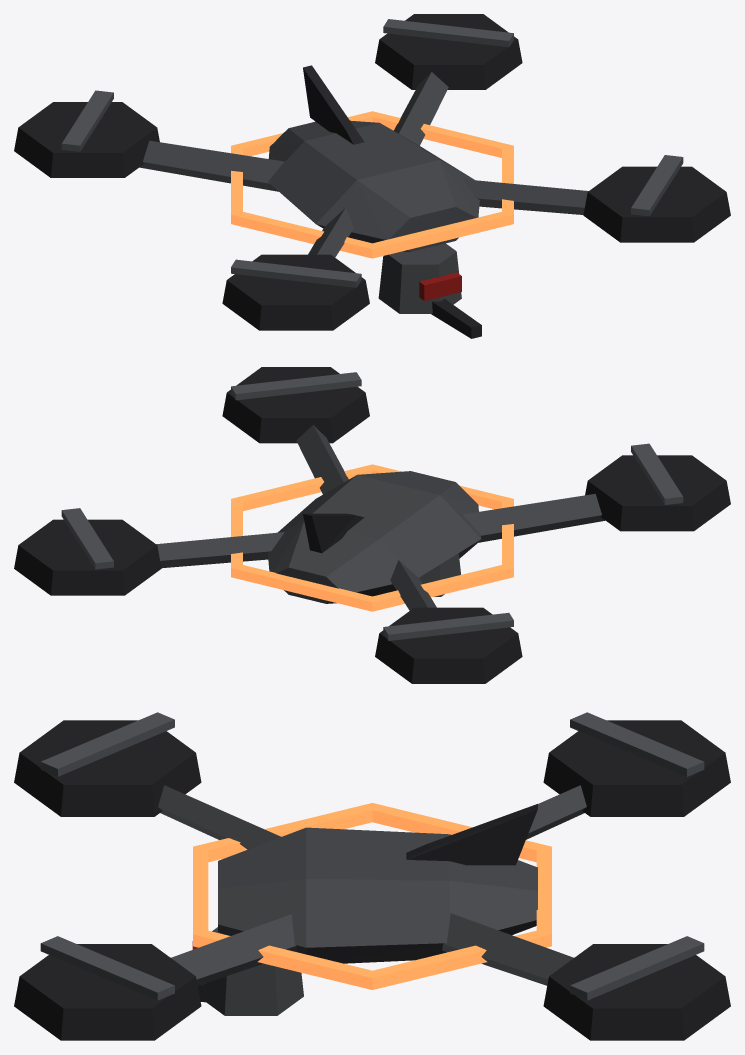
The model's file is orbital_drone_t1.glb.
3 renders of one model, top to bottom at view 1: azimuth 30°, elevation 25°; view 2: azimuth 150°, elevation 25°; view 3: azimuth 270°, elevation 25°, orthographic. The views are drawn at different scales.
Parts seen in each view (by area): view 1: body, rotor_br, rotor_fl, rotor_bl, rotor_fr, orbital_ring, head, blade_fr, blade_bl, blade_fl, blade_br; view 2: body, rotor_fr, rotor_bl, rotor_fl, rotor_br, orbital_ring, blade_br, blade_fl, blade_bl, blade_fr, head; view 3: body, rotor_bl, rotor_fl, rotor_fr, rotor_br, orbital_ring, head, blade_fl, blade_bl, blade_fr, blade_br.
Boxes of the visible parts, x1=… form: body: x1=268, y1=65, x2=479, y2=251; rotor_br: x1=14, y1=102, x2=284, y2=191; rotor_fl: x1=463, y1=166, x2=730, y2=242; rotor_bl: x1=375, y1=14, x2=522, y2=145; rotor_fr: x1=222, y1=208, x2=369, y2=330; orbital_ring: x1=231, y1=111, x2=513, y2=258; head: x1=378, y1=243, x2=481, y2=338; blade_fr: x1=231, y1=259, x2=361, y2=287; blade_bl: x1=383, y1=19, x2=513, y2=47; blade_fl: x1=631, y1=155, x2=683, y2=216; blade_br: x1=61, y1=90, x2=113, y2=151; body: x1=268, y1=471, x2=481, y2=603; rotor_fr: x1=463, y1=455, x2=730, y2=543; rotor_bl: x1=14, y1=519, x2=284, y2=595; rotor_fl: x1=222, y1=367, x2=369, y2=494; rotor_br: x1=375, y1=560, x2=522, y2=683; orbital_ring: x1=231, y1=464, x2=513, y2=611; blade_br: x1=383, y1=612, x2=513, y2=640; blade_fl: x1=231, y1=372, x2=361, y2=400; blade_bl: x1=61, y1=508, x2=113, y2=569; blade_fr: x1=631, y1=443, x2=683, y2=504; head: x1=419, y1=543, x2=477, y2=596; body: x1=218, y1=804, x2=537, y2=963; rotor_bl: x1=442, y1=913, x2=730, y2=1040; rotor_fl: x1=14, y1=914, x2=296, y2=1040; rotor_fr: x1=14, y1=720, x2=280, y2=849; rotor_br: x1=526, y1=720, x2=730, y2=839; orbital_ring: x1=193, y1=803, x2=551, y2=989; head: x1=192, y1=927, x2=303, y2=1015; blade_fl: x1=40, y1=936, x2=174, y2=1000; blade_bl: x1=570, y1=936, x2=704, y2=1000; blade_fr: x1=40, y1=712, x2=174, y2=776; blade_br: x1=570, y1=712, x2=704, y2=776.
Bounding box in the file's own units: 0.6272 × 0.1925 × 0.65.
